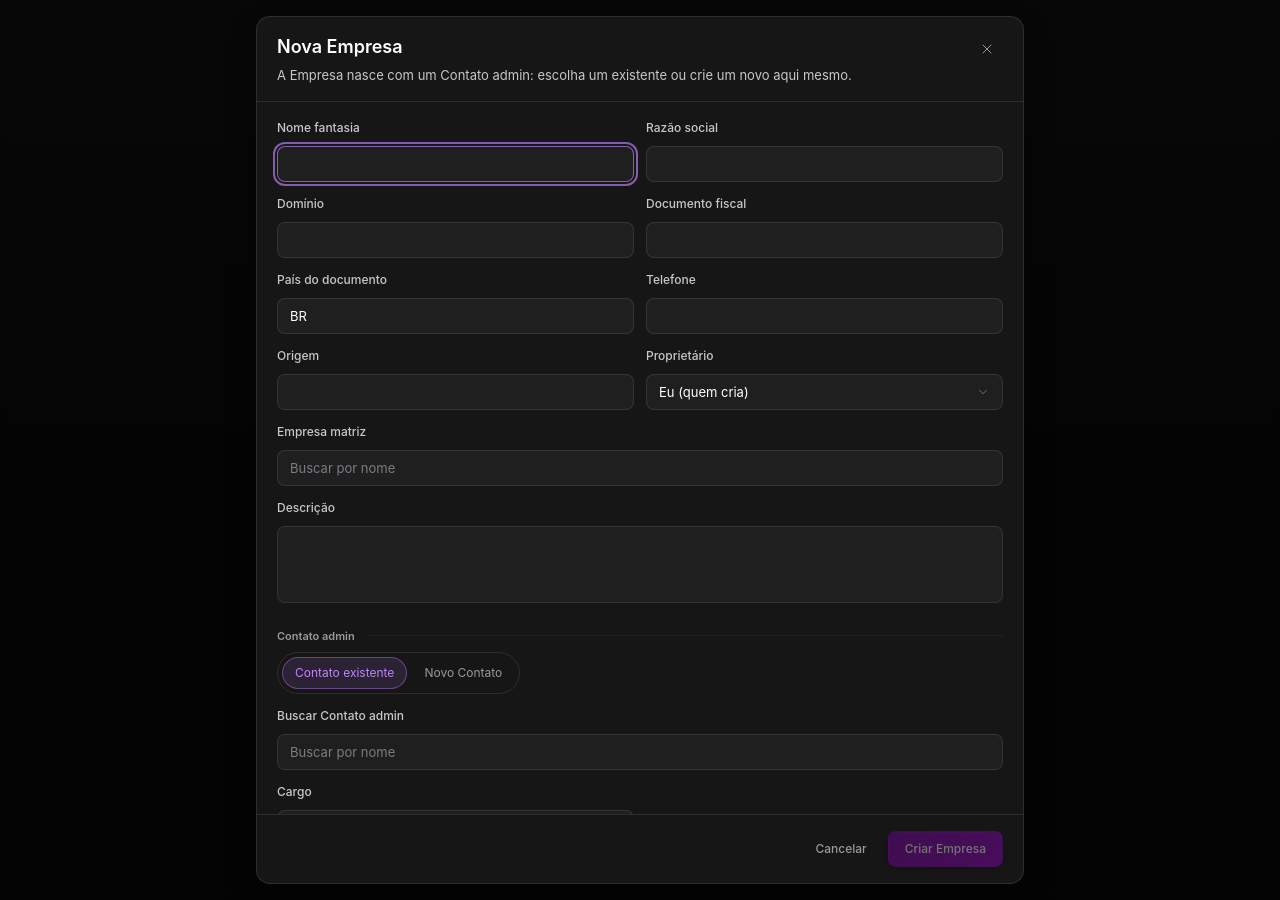
Test: DialogoNovaEmpresa — o Contato admin vai junto (D-08) › (c) 409 IDENTIFICADOR_EM_USO mostra a frase com o link do detentor e o diálogo continua aberto com os campos
The image size is (1280, 900).
Type "Alfa" into the field labelled "Nome fantasia" at (456, 164), box [277,146,634,182]
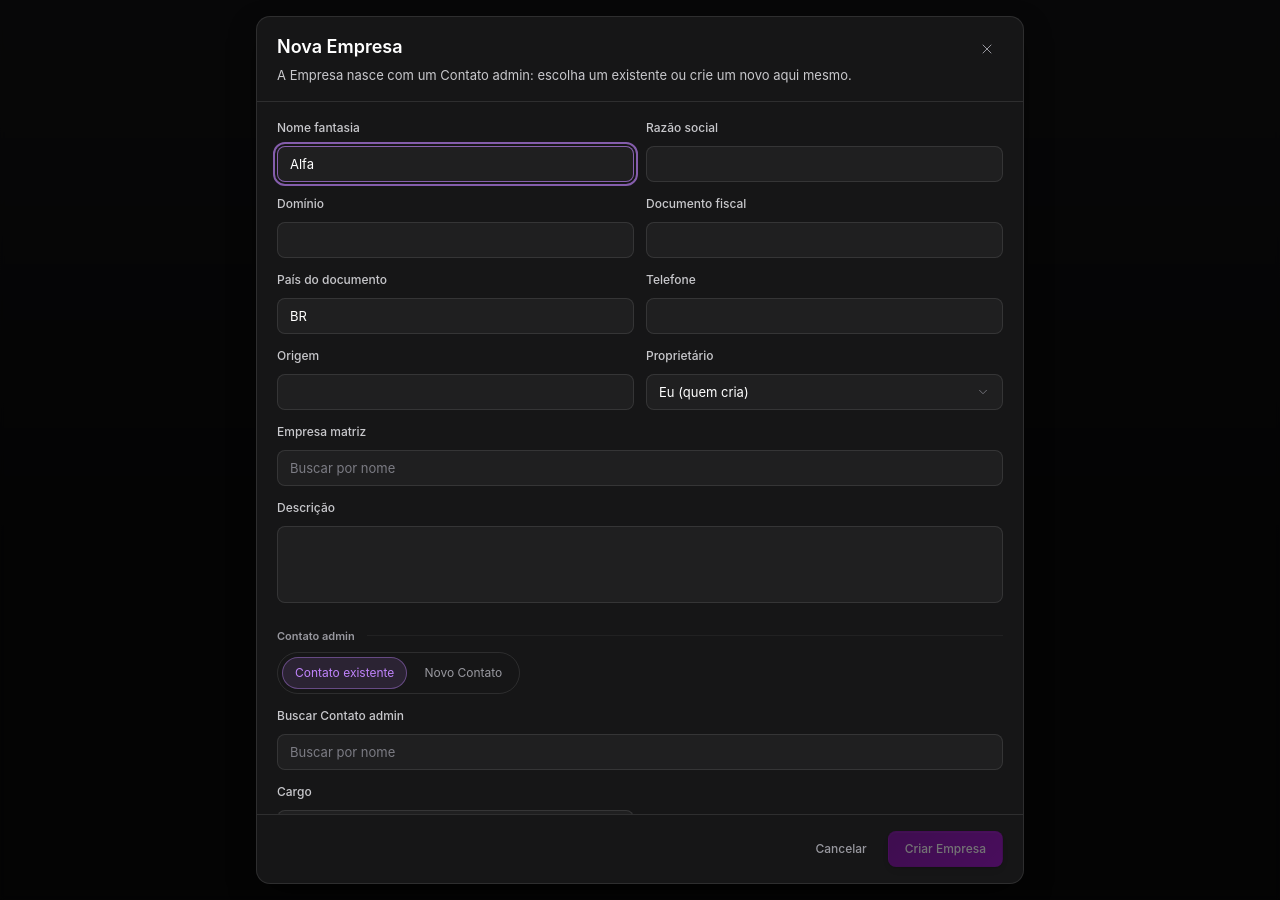
Type "alfa.com" into the field labelled "Domínio" at (456, 240), box [277,222,634,258]
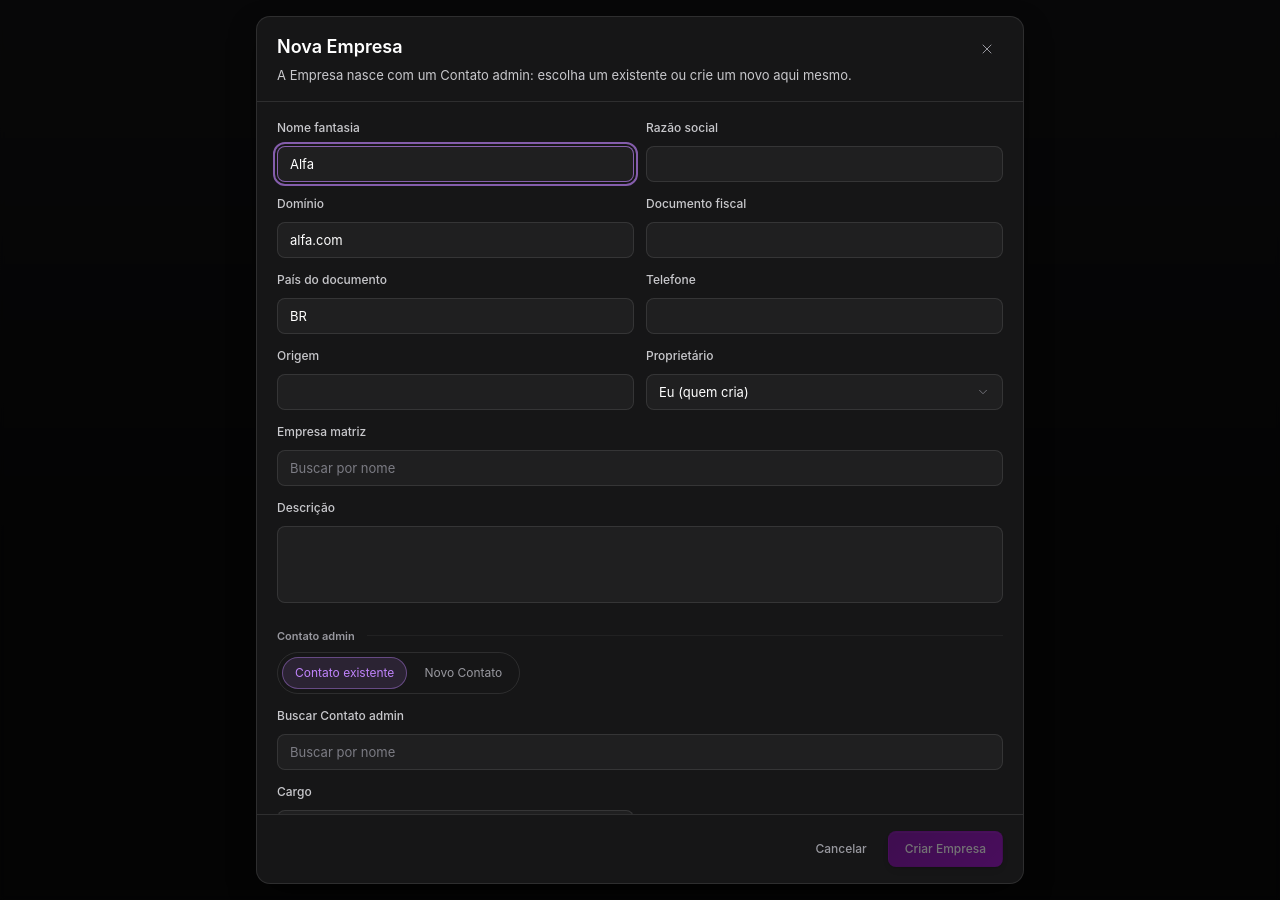
Type "ana" into the dropdown labelled "Buscar Contato admin" at (640, 752), box [277,734,1003,770]
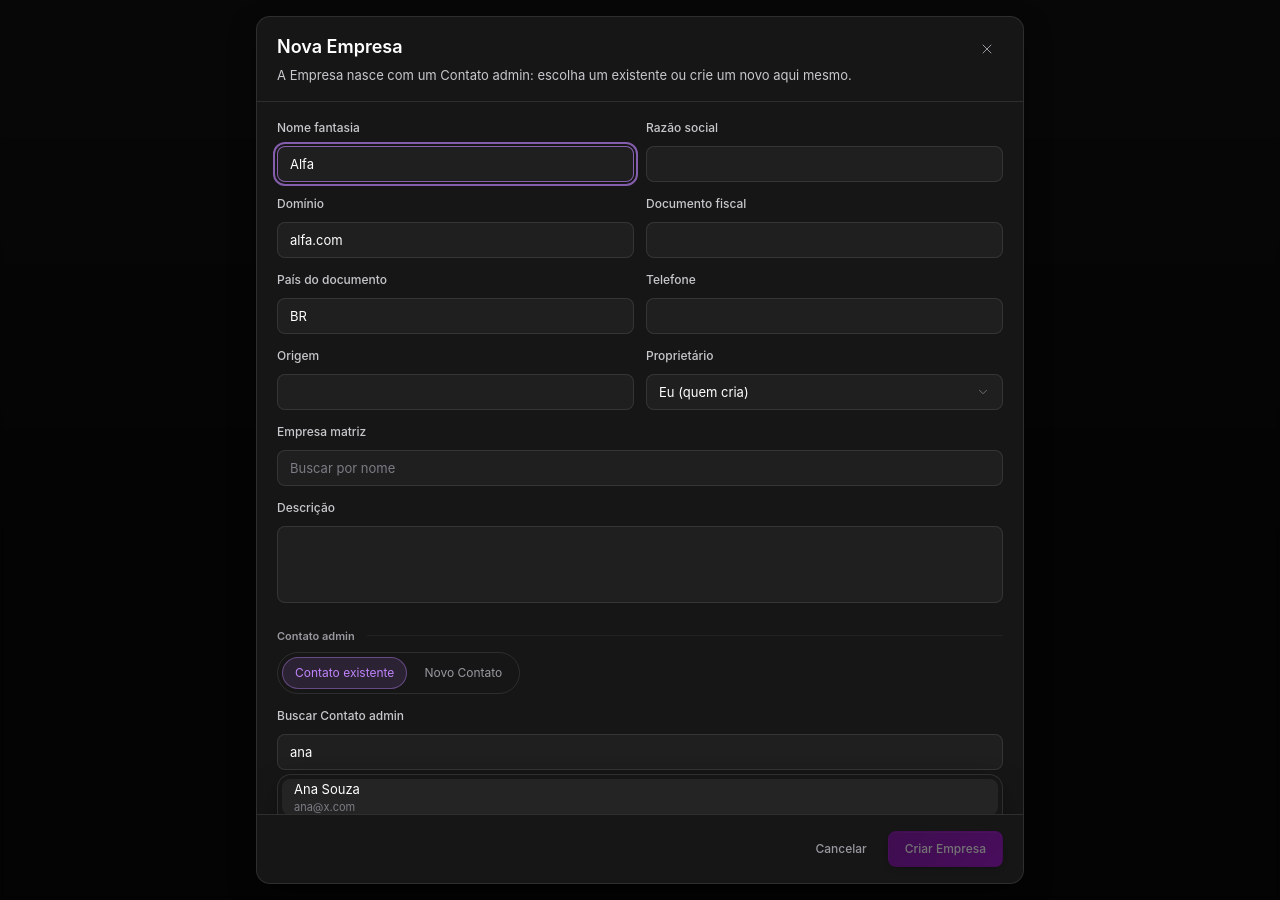
Click the text "Ana Souza" at (327, 788), box [294,780,360,796]
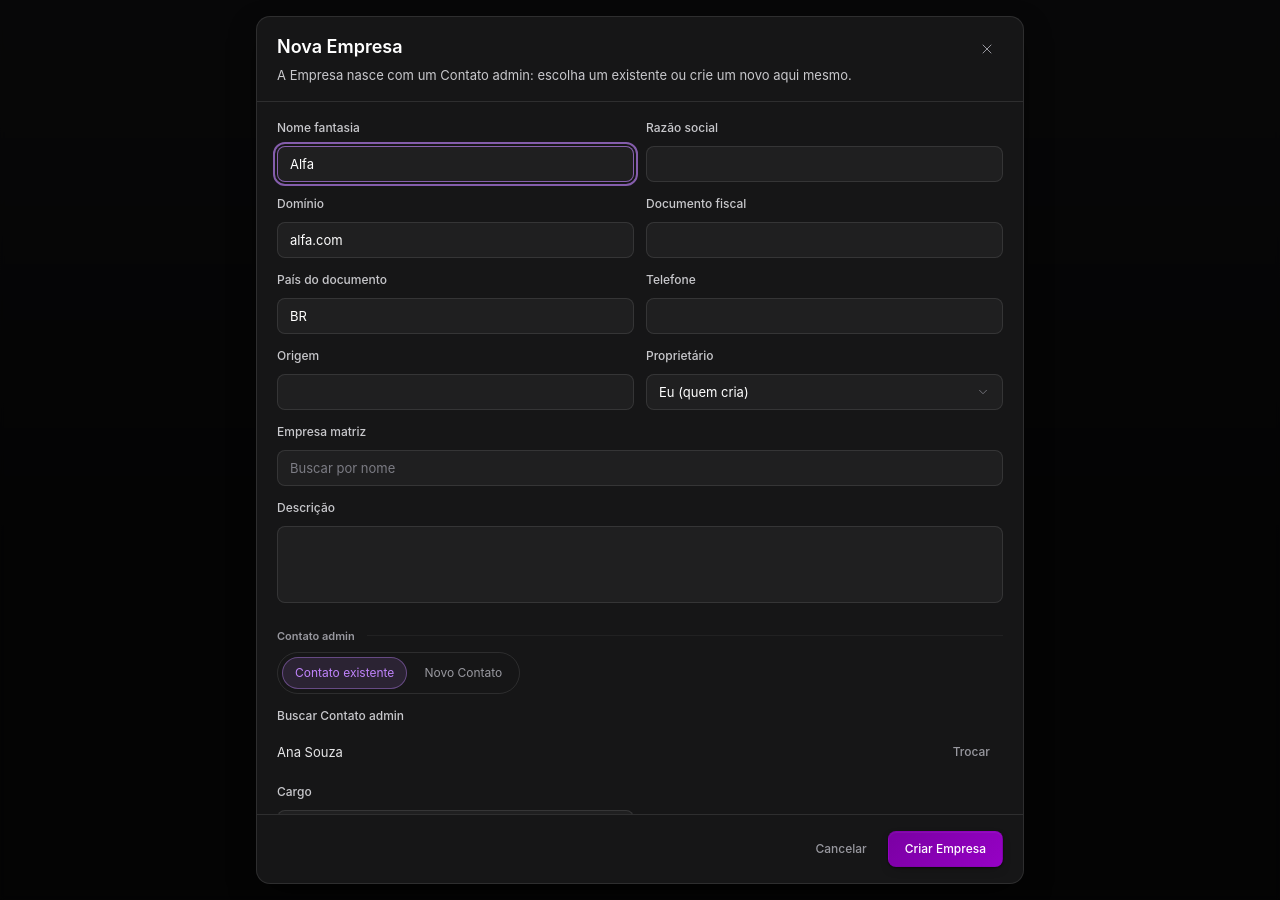
Click the button "Criar Empresa" at (945, 849), box [888,831,1003,867]
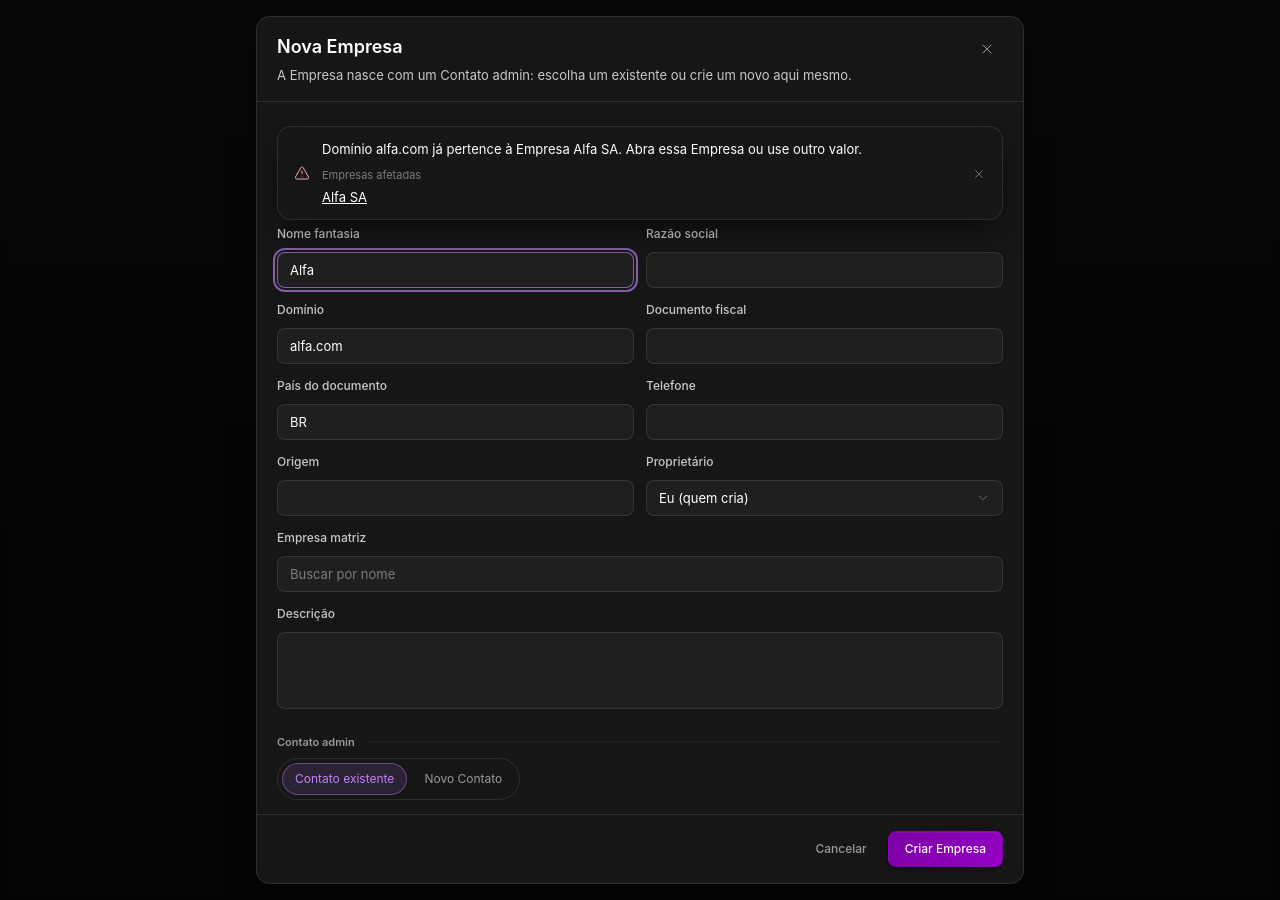
Expected: the dialog is shown, [256,16,1024,884]
Result: the text "já pertence à Empresa Alfa SA" is shown at [322,141,862,157]
